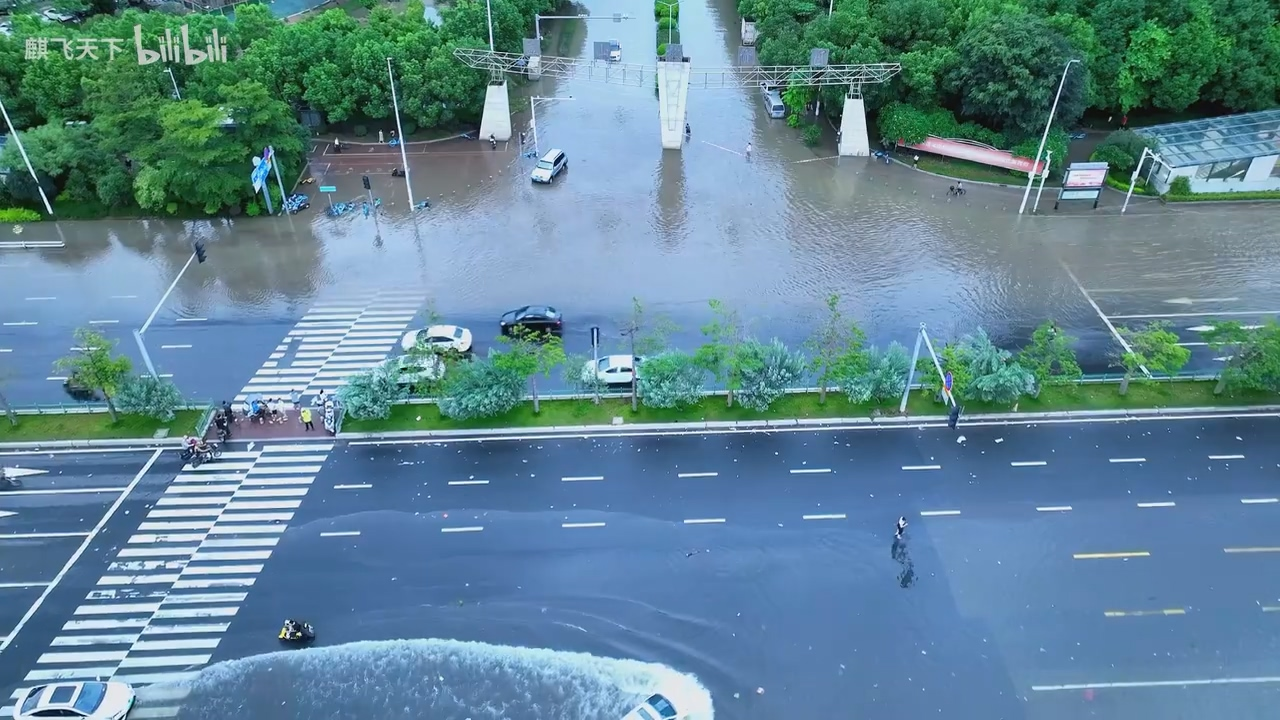puddle: (8, 210, 1265, 327)
